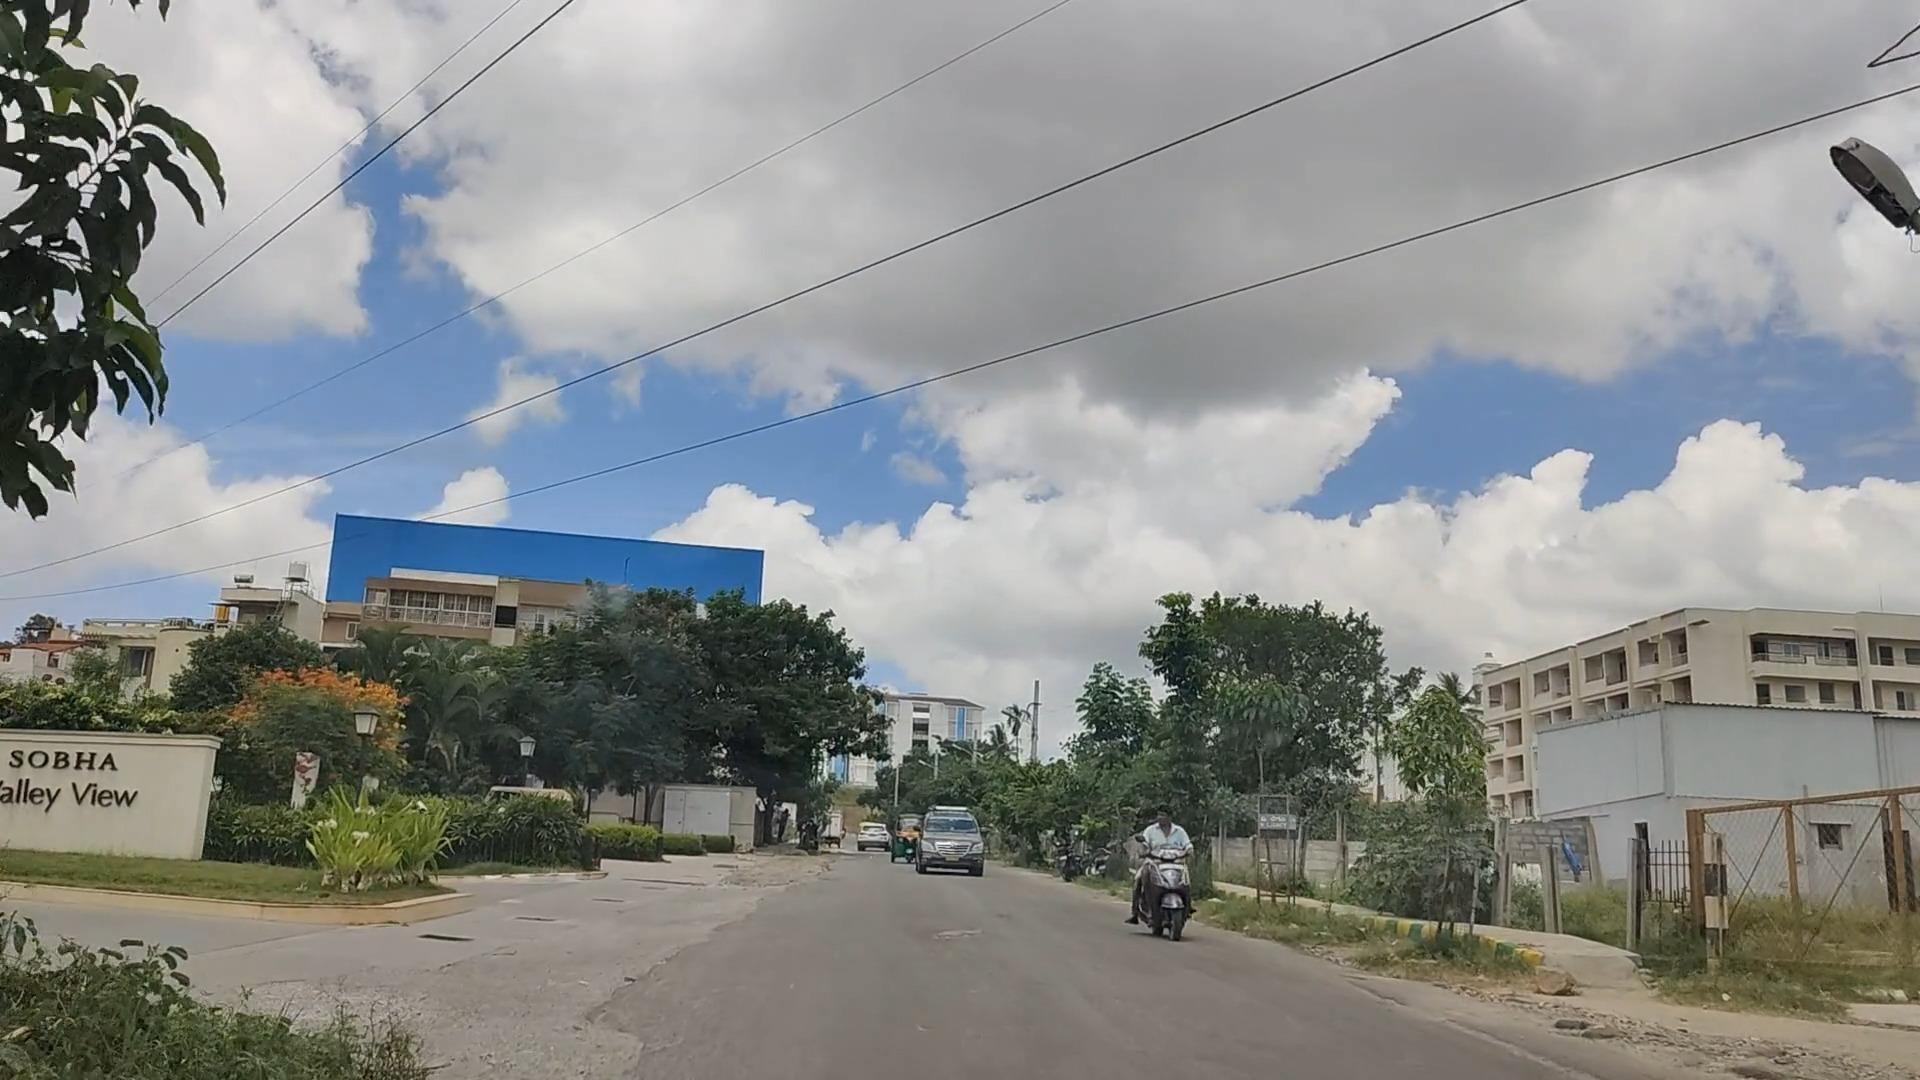RoadDamages: (1370, 982, 1633, 1080), (607, 887, 799, 998), (514, 1010, 703, 1080)
